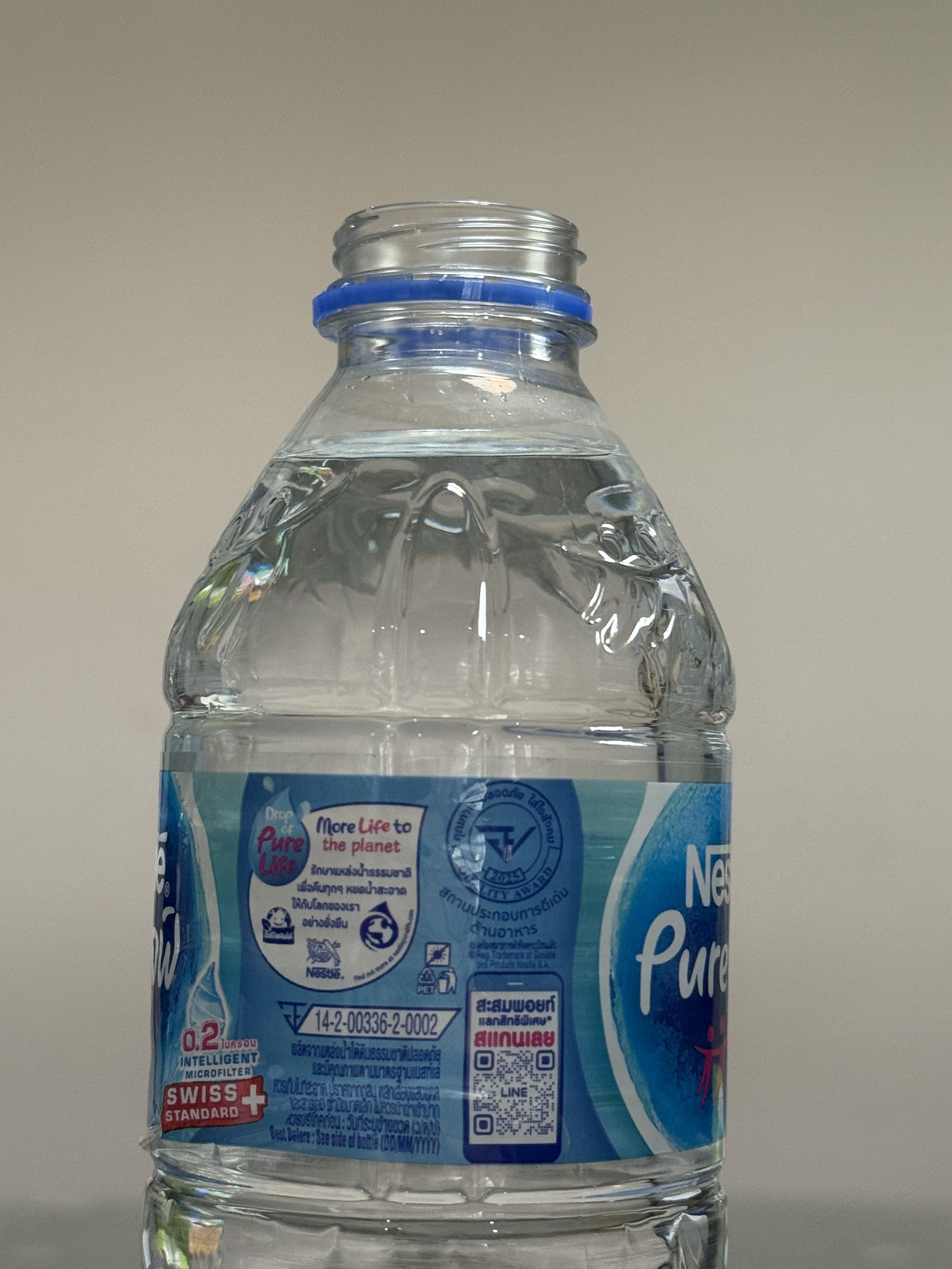no_cap: (312, 192, 595, 332)
